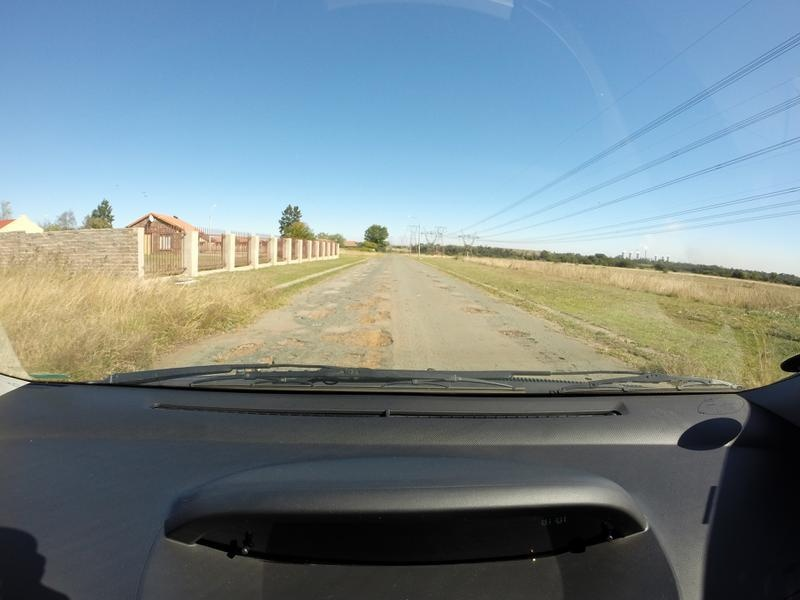pothole: (318, 324, 391, 349), (278, 299, 333, 322), (350, 302, 399, 322), (215, 338, 257, 361), (530, 349, 566, 372), (490, 325, 529, 342), (453, 305, 496, 319), (275, 331, 306, 350), (438, 287, 470, 300)
